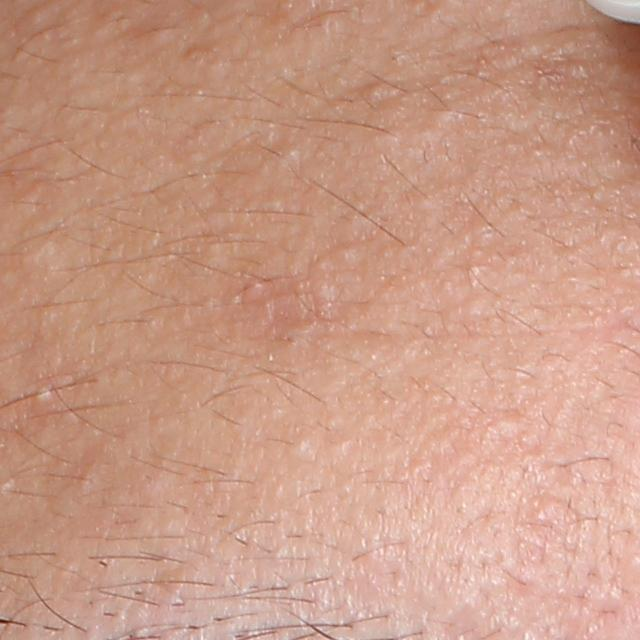comedo: (300, 6, 356, 45), (283, 428, 319, 468), (352, 79, 402, 103), (487, 410, 521, 443), (329, 240, 365, 270), (21, 2, 49, 29), (31, 381, 52, 404)
